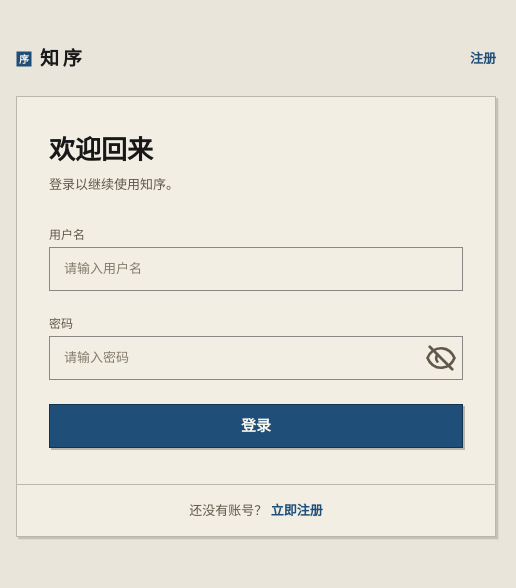
login page › stores the token and follows the redirect query after a successful login
Type "uiaudit" into the field with id "username" at (256, 268), box [49,246,463,290]
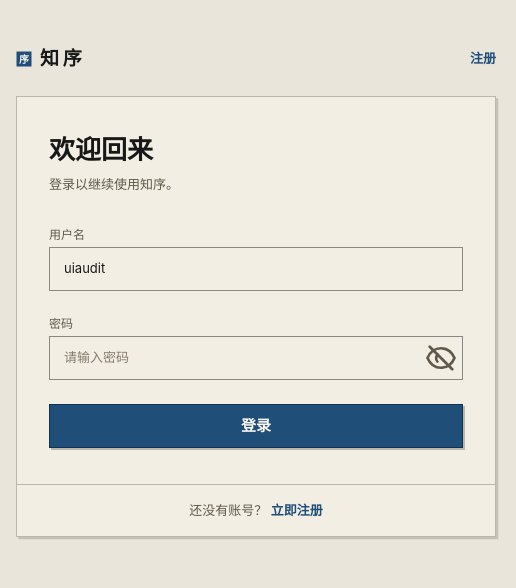
Type "UiAudit123456" into the password field labelled "密码" at (256, 358), box [49,336,463,380]
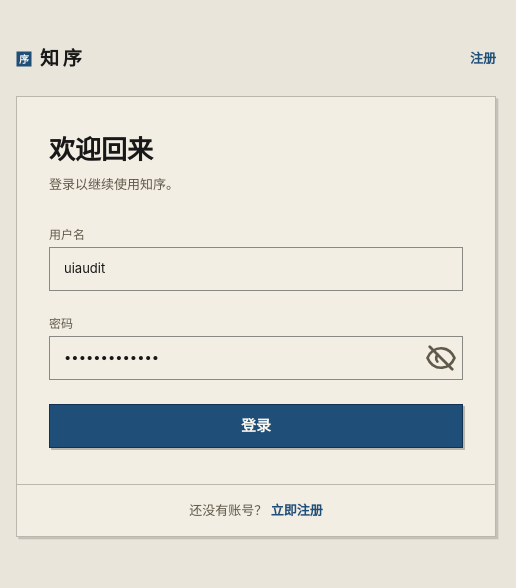
Submit the form, box [49,226,463,448]
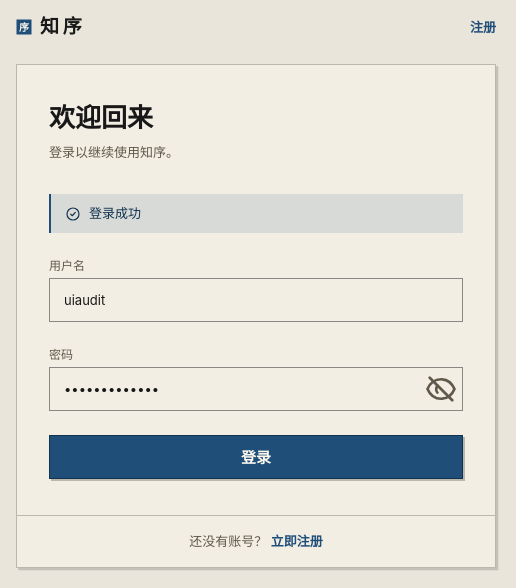
Now the text "登录成功" is shown, box [49,194,463,233]
